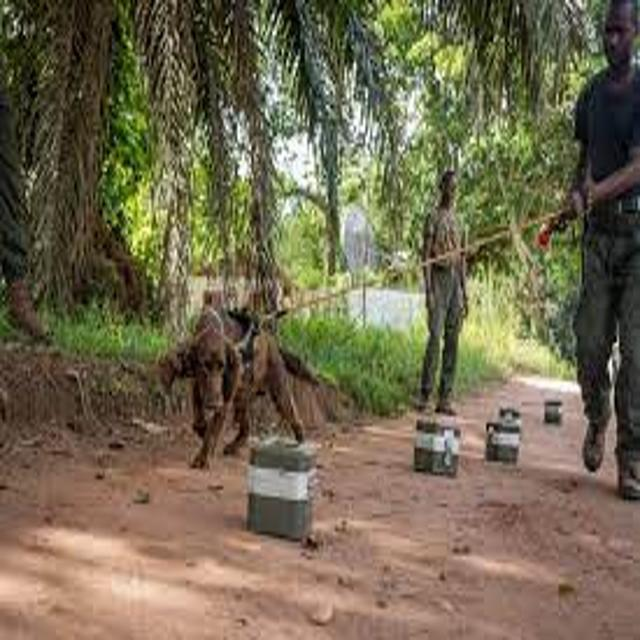Dog: (184, 280, 330, 477)
